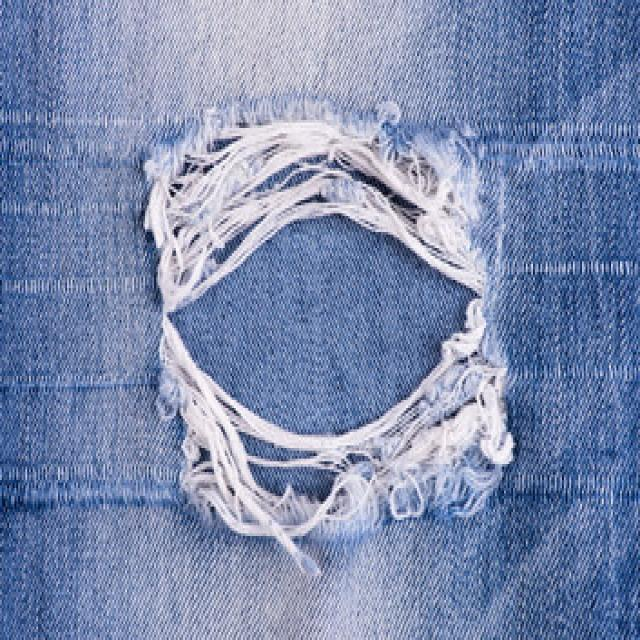Hole: (146, 122, 514, 572)
Line: (0, 466, 184, 512), (478, 121, 640, 172), (500, 473, 640, 506), (0, 110, 164, 128), (0, 277, 151, 294), (0, 200, 142, 216), (510, 365, 640, 382), (506, 261, 640, 276)
